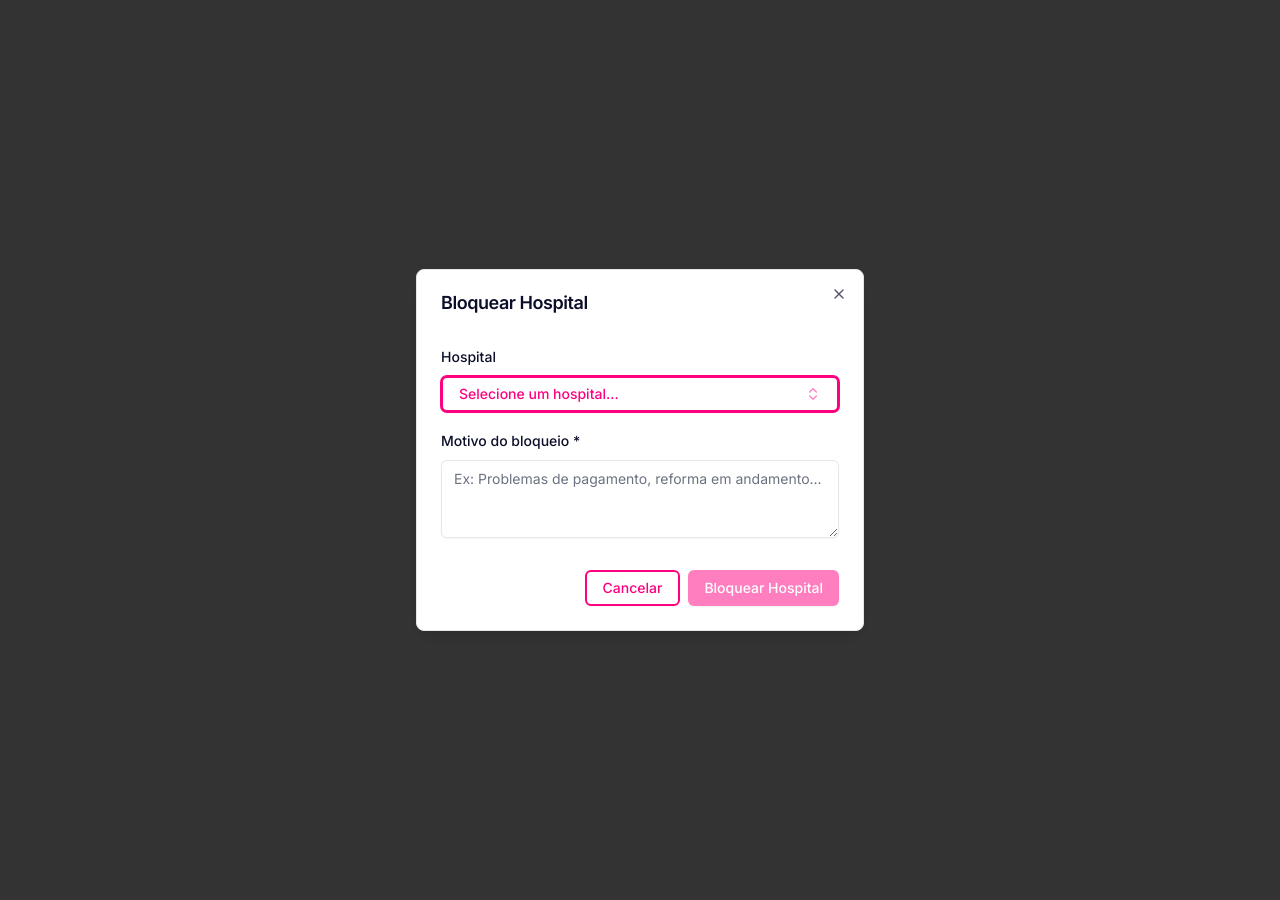
BloquearHospitalDialog › shows loading state in combobox
Open combobox
Step 1. Click the dropdown "Selecione um hospital..." → coordinates (539, 394), box [441, 376, 839, 412]
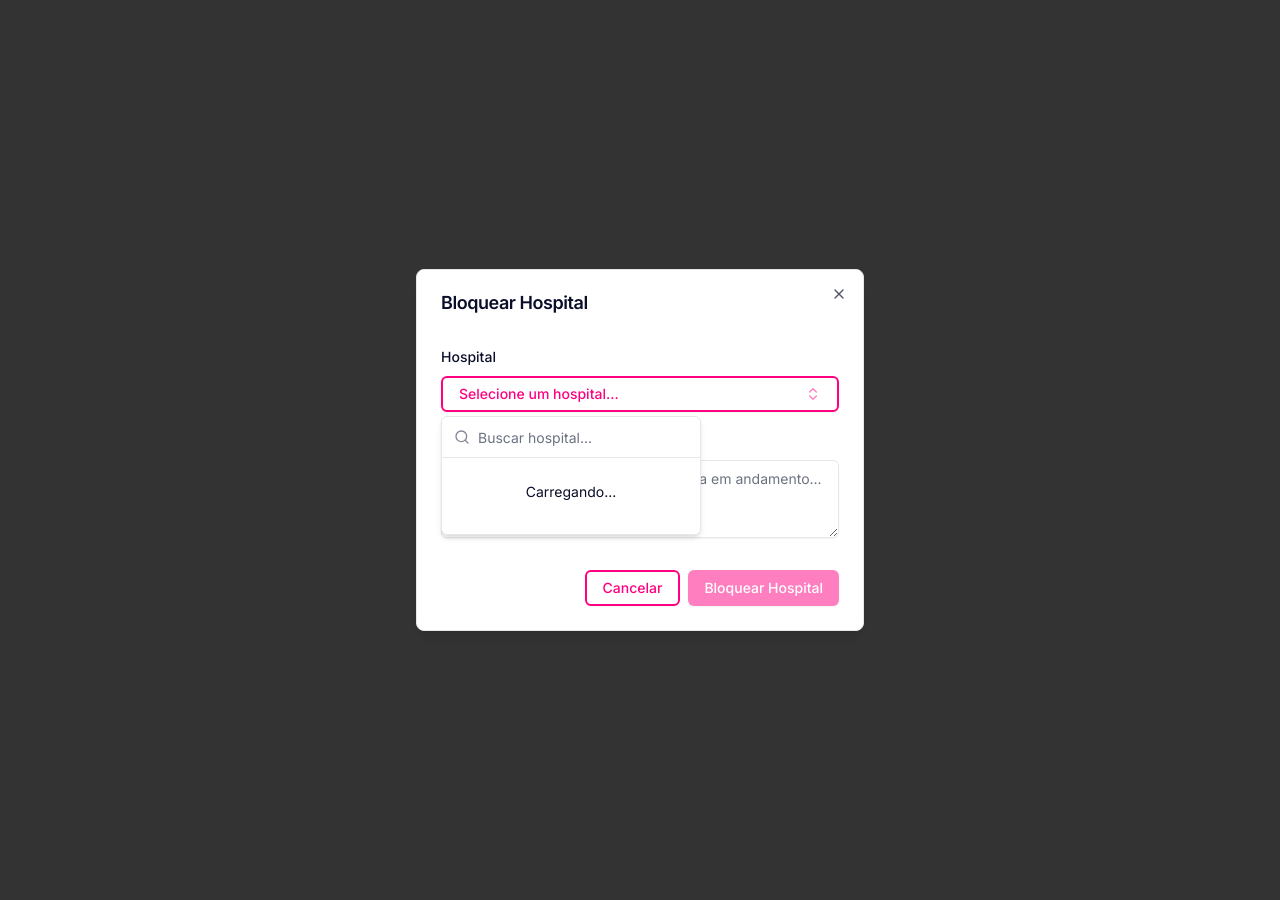
Result: the text "Carregando..." is shown at [526, 483, 616, 500]
